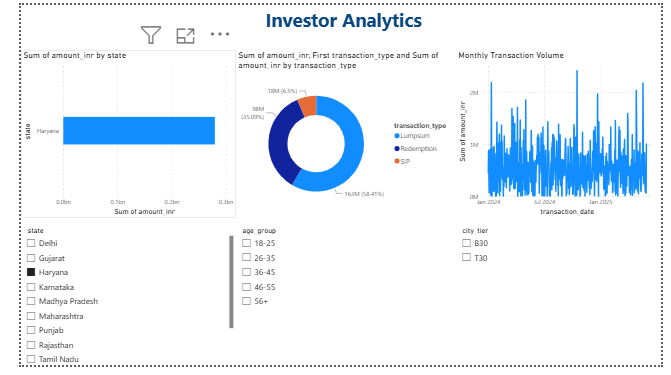

The page's visual inventory and layout, read from the dashboard file:
{"tool":"powerbi","page":{"name":"Investor Analytics","canvas":[1280,720],"ordinal":2},"visuals":[{"type":"textbox","box":[10,0,1270,90],"z":0},{"type":"clusteredBarChart","fields":{"Category":["08_investor_transactions.state"],"Y":["Sum(08_investor_transactions.amount_inr)"]},"box":[0,90,430,336.7],"z":1000},{"type":"donutChart","fields":{"Category":["08_investor_transactions.transaction_type"],"Y":["Sum(08_investor_transactions.amount_inr)"]},"box":[430,90,440,336.7],"z":2000},{"type":"lineChart","title":"Monthly Transaction Volume","fields":{"Category":["08_investor_transactions.transaction_date"],"Y":["Sum(08_investor_transactions.amount_inr)"]},"box":[870,90,410,336.7],"z":3000},{"type":"slicer","fields":{"Values":["08_investor_transactions.state"]},"box":[0,437,430,283],"z":3004},{"type":"slicer","fields":{"Values":["08_investor_transactions.age_group"]},"box":[430,437,440,283],"z":3005},{"type":"slicer","fields":{"Values":["08_investor_transactions.city_tier"]},"box":[870,437,410,283],"z":3006}]}

Visuals, with their boxes in screenshot pixels (x1, y1, x2, y2), scaled from the page's 1280x720 canvas onto the 671x375 screenshot:
textbox: left=5, top=0, right=670, bottom=47
clusteredBarChart - 08_investor_transactions.state x Sum(08_investor_transactions.amount_inr): left=0, top=47, right=225, bottom=222
donutChart - 08_investor_transactions.transaction_type x Sum(08_investor_transactions.amount_inr): left=225, top=47, right=456, bottom=222
"Monthly Transaction Volume" lineChart: left=456, top=47, right=670, bottom=222
slicer - 08_investor_transactions.state: left=0, top=228, right=225, bottom=374
slicer - 08_investor_transactions.age_group: left=225, top=228, right=456, bottom=374
slicer - 08_investor_transactions.city_tier: left=456, top=228, right=670, bottom=374
